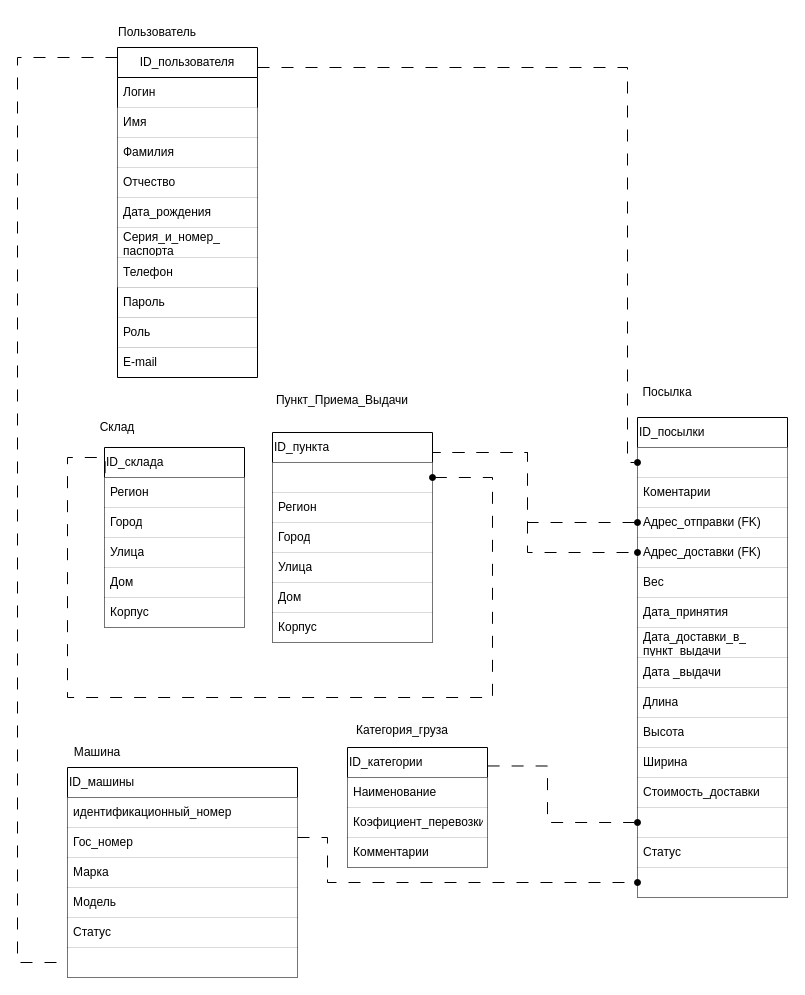
Some shapes in this 805 by 995 pixel diagram are drawn without their labels. The centre of each missing label's shape, as x and y in pixels:
ID_водителя (FK): pixel 182 962
ID_клиента (FK): pixel 712 462
ID_склад (FK): pixel 352 477
Категория_груза (FK): pixel 712 822
Номер_машины (FK): pixel 712 882
